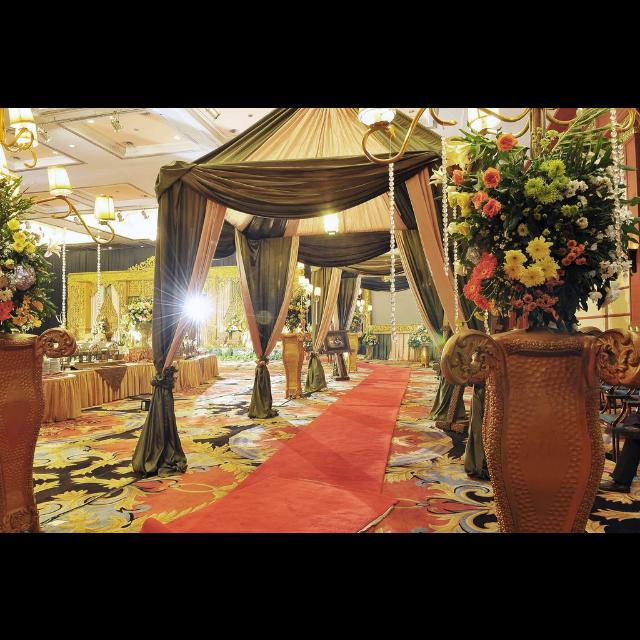Flower: (418, 127, 632, 320), (0, 170, 68, 330), (463, 250, 499, 322), (286, 292, 308, 328), (124, 294, 152, 322), (532, 256, 560, 280), (526, 237, 552, 260), (11, 265, 35, 287), (518, 268, 544, 288), (452, 258, 476, 276), (496, 132, 520, 150), (44, 238, 62, 260), (428, 170, 449, 188), (483, 199, 501, 217), (484, 168, 502, 186), (411, 326, 432, 340), (457, 219, 473, 237), (506, 265, 522, 281), (92, 321, 110, 335), (473, 191, 487, 209), (352, 306, 362, 330), (504, 252, 524, 264), (445, 222, 459, 238), (450, 193, 464, 209), (456, 192, 470, 208), (452, 170, 464, 188), (227, 316, 241, 330), (366, 333, 379, 347), (0, 303, 14, 315), (12, 231, 26, 243), (15, 317, 29, 329), (24, 242, 38, 254), (0, 290, 12, 302), (3, 259, 15, 271), (13, 241, 25, 253), (461, 208, 473, 220), (8, 220, 22, 230), (14, 306, 28, 316), (30, 318, 44, 327), (34, 301, 44, 313), (0, 275, 8, 289), (304, 344, 312, 352), (22, 296, 28, 304)
